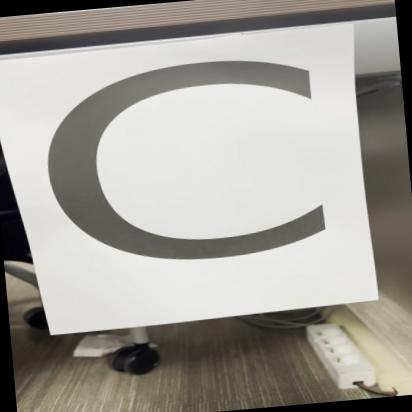seat: (0, 26, 371, 339)
